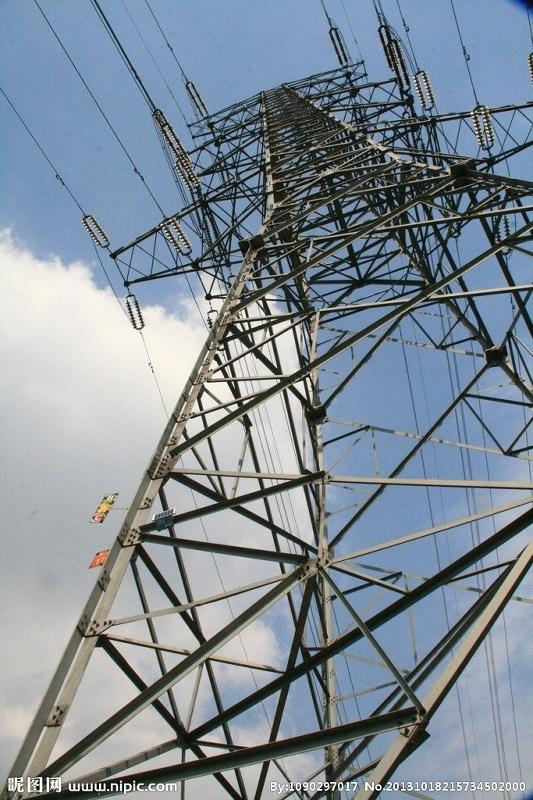power_tower: (120, 58, 529, 682)
